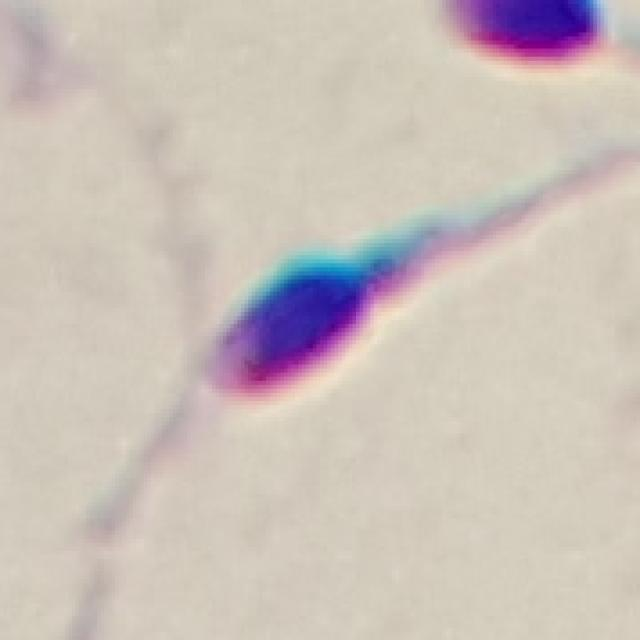abnormal sperm: (202, 184, 562, 412)
